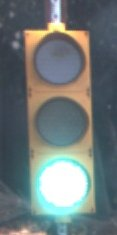Green: (18, 32, 100, 217)
